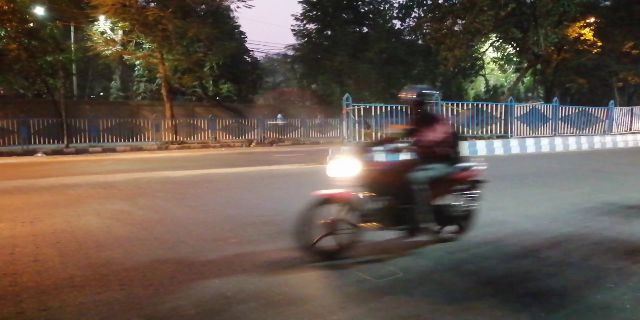Motorbike: (292, 87, 489, 262)
